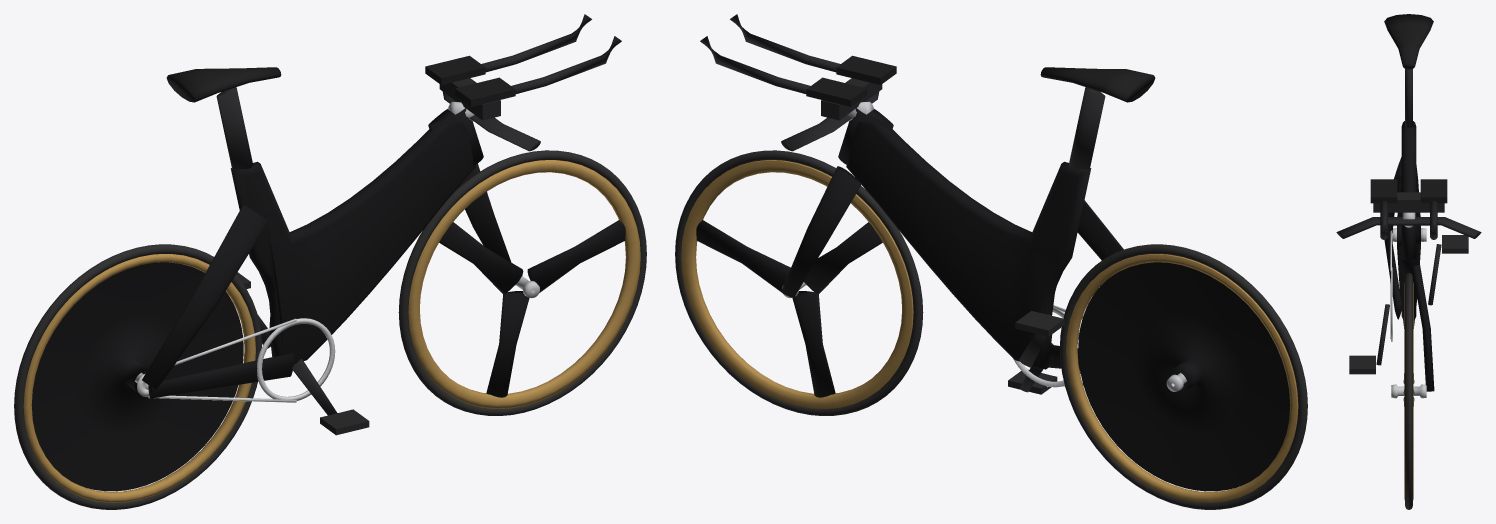
Rendered from bike.glb.
The picture shows the model from 3 angles, left to right: view 1: azimuth 30°, elevation 25°; view 2: azimuth 150°, elevation 25°; view 3: azimuth 270°, elevation 25°; orthographic projection. The views are drawn at different scales.
Visible parts, largest first — view 1: wheel_rear_disc, mono_wing, wheel_front_rim, wheel_rear_rim, wheel_front_tyre, wheel_rear_tyre, monostay, monochainstay, saddle, wheel_front_blade2, wheel_front_blade0, wheel_front_blade1 (+12 smaller); view 2: wheel_rear_disc, mono_wing, wheel_front_rim, wheel_rear_rim, wheel_rear_tyre, wheel_front_tyre, fork_mono, saddle, wheel_front_blade2, wheel_front_blade0, wheel_front_blade1, seatpost (+9 smaller); view 3: wheel_front_tyre, saddle, mono_wing, base_bar, fork_mono, pad_riser, armpad_l, armpad_r, wheel_rear_disc, monochainstay, head_tube, pedal_l (+9 smaller).
Part boxes in pixels (left/top/right/bottom): wheel_rear_disc: left=31, top=262, right=243, bottom=491; mono_wing: left=230, top=121, right=475, bottom=363; wheel_front_rim: left=408, top=160, right=640, bottom=409; wheel_rear_rim: left=23, top=254, right=255, bottom=502; wheel_front_tyre: left=398, top=150, right=646, bottom=415; wheel_rear_tyre: left=14, top=244, right=261, bottom=509; monostay: left=142, top=204, right=268, bottom=389; monochainstay: left=148, top=353, right=294, bottom=398; saddle: left=166, top=67, right=281, bottom=102; wheel_front_blade2: left=486, top=291, right=529, bottom=397; wheel_front_blade0: left=527, top=220, right=625, bottom=292; wheel_front_blade1: left=439, top=222, right=523, bottom=294; wheel_rear_disc: left=1078, top=262, right=1290, bottom=491; mono_wing: left=846, top=121, right=1091, bottom=369; wheel_front_rim: left=681, top=160, right=913, bottom=409; wheel_rear_rim: left=1066, top=254, right=1298, bottom=502; wheel_rear_tyre: left=1059, top=244, right=1307, bottom=509; wheel_front_tyre: left=675, top=150, right=923, bottom=415; fork_mono: left=781, top=166, right=861, bottom=297; saddle: left=1040, top=67, right=1155, bottom=102; wheel_front_blade2: left=792, top=291, right=835, bottom=397; wheel_front_blade0: left=696, top=220, right=790, bottom=292; wheel_front_blade1: left=804, top=222, right=882, bottom=294; seatpost: left=1068, top=87, right=1105, bottom=169; wheel_front_tyre: left=1405, top=273, right=1412, bottom=509; saddle: left=1384, top=14, right=1433, bottom=69; mono_wing: left=1401, top=121, right=1416, bottom=319; base_bar: left=1336, top=217, right=1481, bottom=238; fork_mono: left=1412, top=264, right=1434, bottom=391; pad_riser: left=1373, top=192, right=1444, bottom=212; armpad_l: left=1370, top=179, right=1397, bottom=203; armpad_r: left=1420, top=179, right=1447, bottom=203; wheel_rear_disc: left=1397, top=165, right=1420, bottom=328; monochainstay: left=1384, top=237, right=1401, bottom=319; head_tube: left=1401, top=212, right=1416, bottom=260; pedal_l: left=1349, top=355, right=1375, bottom=374.
Bounding box in the file's own units: 1.71 × 1.08 × 0.4091.
